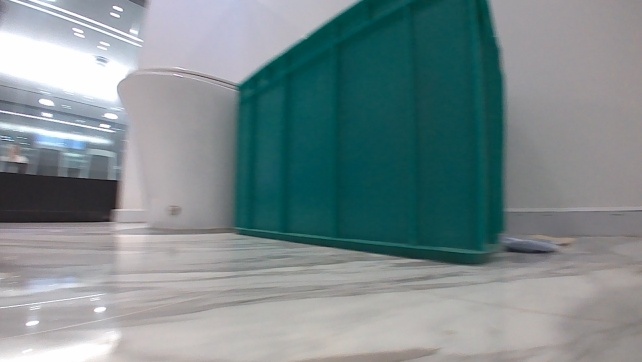toilet: (112, 62, 239, 235)
